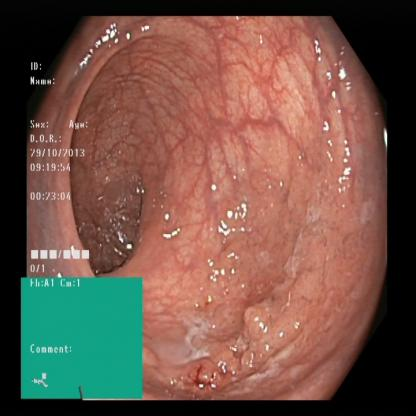Labels: (20, 279, 144, 400), (28, 57, 94, 276)
Polyps: (236, 291, 296, 370), (174, 342, 224, 392)
